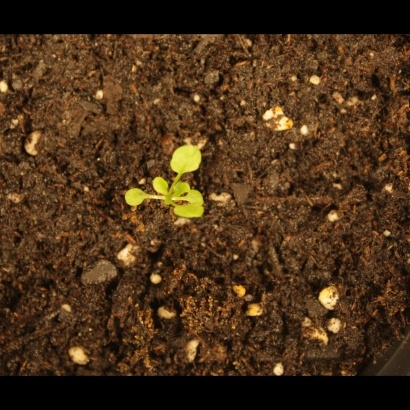leaf: (171, 144, 210, 175), (172, 202, 205, 230), (185, 181, 212, 210), (122, 182, 148, 211), (148, 176, 171, 200), (167, 177, 190, 200)
